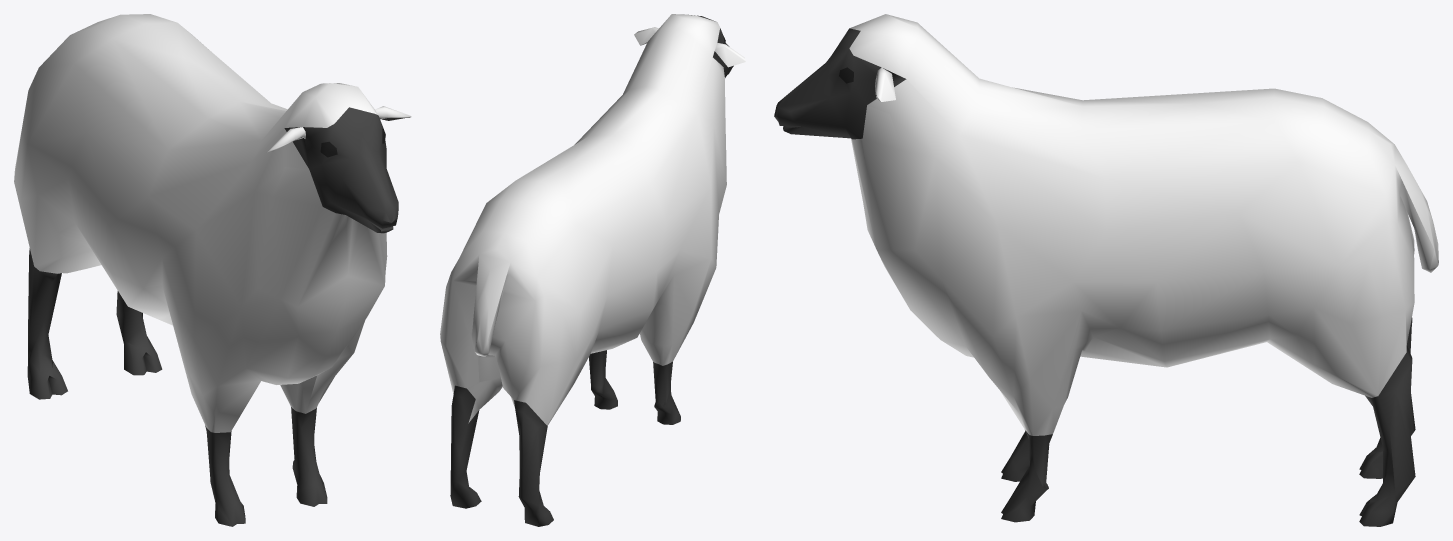
Rendered from sheep_001.glb.
3 renders of one model, left to right at view 1: azimuth 30°, elevation 25°; view 2: azimuth 150°, elevation 25°; view 3: azimuth 270°, elevation 25°, orthographic. The views are drawn at different scales.
Parts seen in each view (by area): view 1: sheep_001; view 2: sheep_001; view 3: sheep_001.
Boxes of the visible parts, x1,y1,x2,y2 form: sheep_001: [14, 14, 411, 526]; sheep_001: [440, 14, 745, 526]; sheep_001: [774, 14, 1438, 526].
Size of the model in its own units: 0.481 by 1.14 by 1.44.
1 material, 1 textured.
